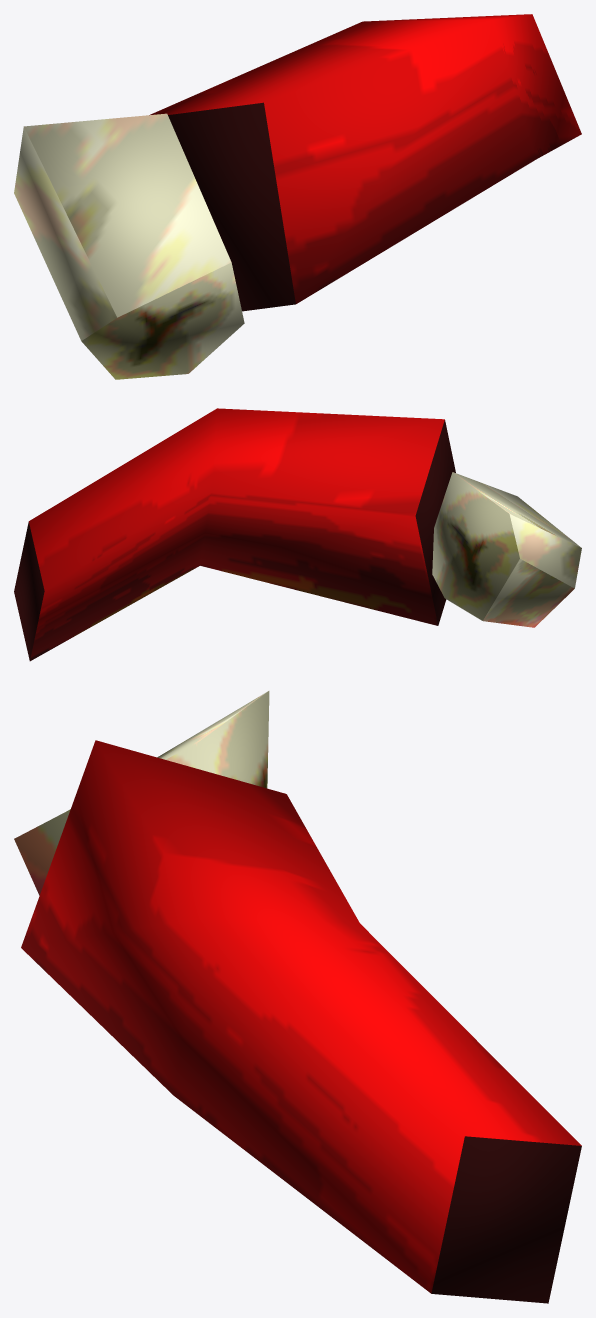
Rendered from fist.dae.
3 views of the same model, one above another, from view 1: azimuth 30°, elevation 25°; view 2: azimuth 150°, elevation 25°; view 3: azimuth 270°, elevation 25° (orthographic). The views are drawn at different scales.
Parts seen in each view (by area): view 1: Cube; view 2: Cube; view 3: Cube.
Boxes of the visible parts, left/top/right/bottom form: Cube: left=14, top=14, right=581, bottom=379; Cube: left=14, top=408, right=581, bottom=661; Cube: left=14, top=691, right=581, bottom=1303.
Bounding box in the file's own units: 3.77 × 2.47 × 1.64.
1 material, 1 textured.
